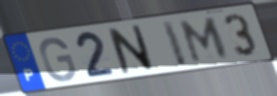2: (74, 29, 120, 80)
3: (223, 12, 259, 58)
G: (38, 35, 79, 83)
I: (159, 18, 190, 69)
M: (179, 15, 231, 64)
N: (106, 23, 157, 76)
